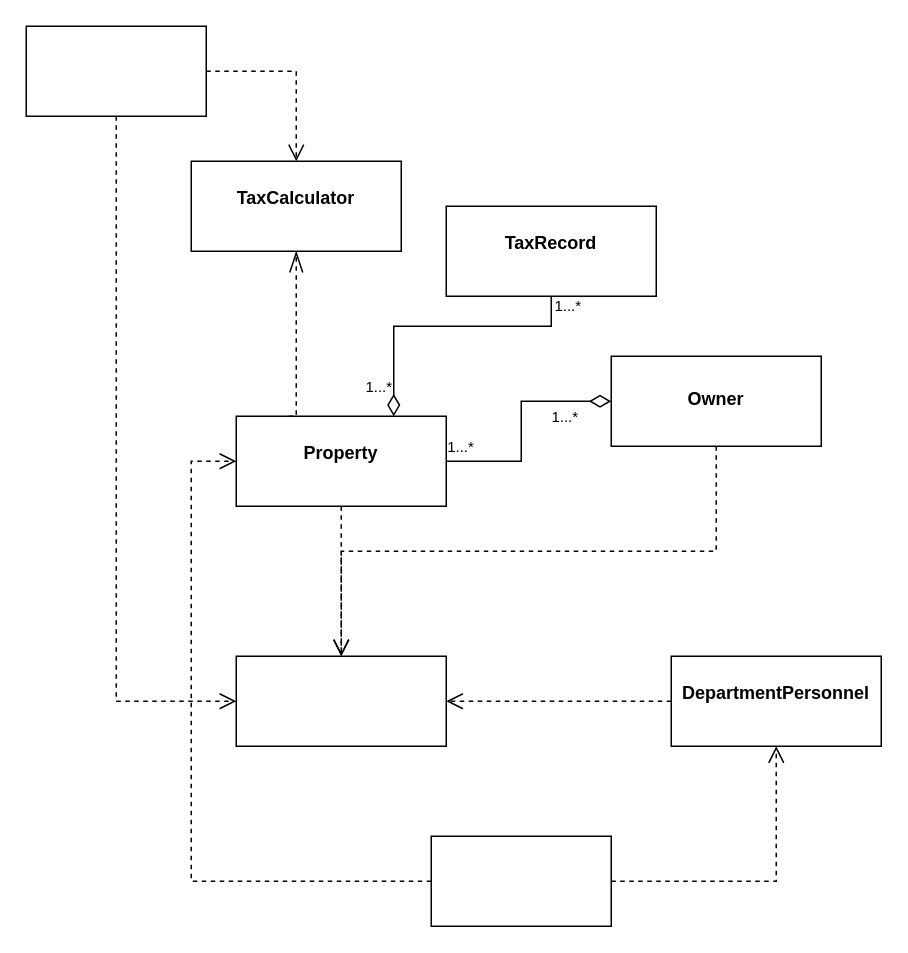
Some shapes in this 908 by 953 pixel diagram are drawn without their labels. Each missing label, with the centre of its shape:
"CLI" goes at (x=115, y=70).
"GUI" goes at (x=520, y=880).
"Utilities" goes at (x=340, y=700).
